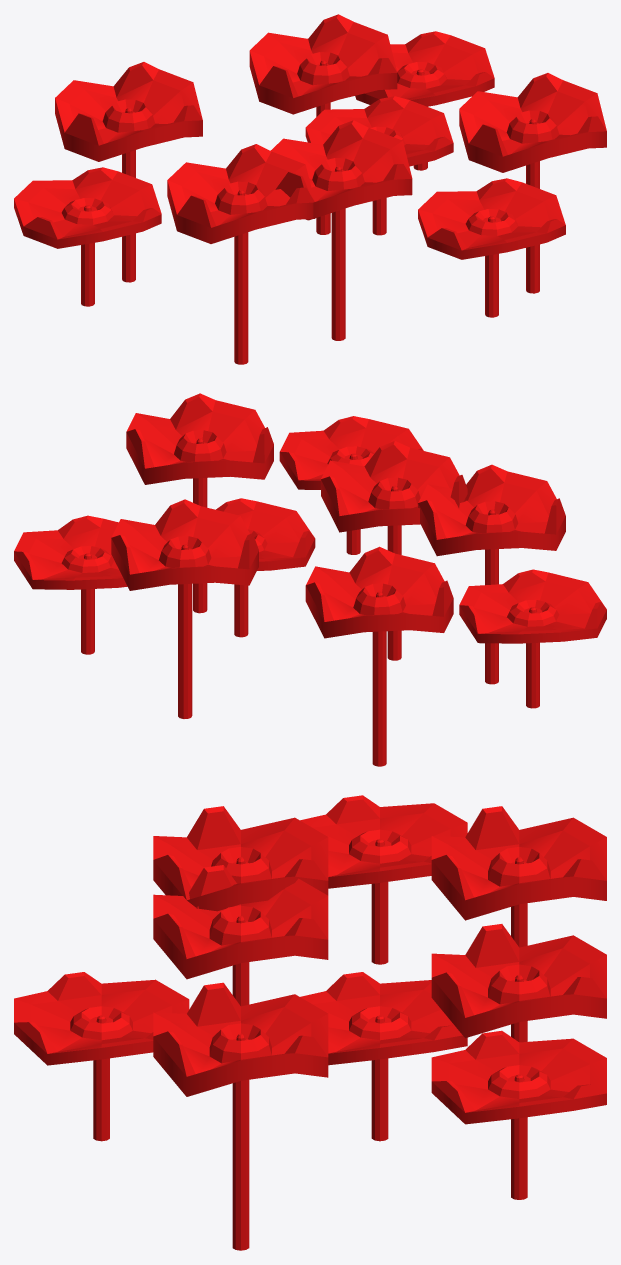
Rendered from FireFlowers Mesh.obj.
The picture shows the model from 3 angles, top to bottom: view 1: azimuth 30°, elevation 25°; view 2: azimuth 150°, elevation 25°; view 3: azimuth 270°, elevation 25°; orthographic projection. The views are drawn at different scales.
Visible parts, largest first — view 1: FireFlowers Mesh; view 2: FireFlowers Mesh; view 3: FireFlowers Mesh.
Part boxes in pixels (box(x1,y1,x2,y2)): FireFlowers Mesh: box(14, 14, 606, 364); FireFlowers Mesh: box(14, 393, 606, 766); FireFlowers Mesh: box(14, 795, 606, 1250).
Size of the model in its own units: 3.43 by 1.2 by 2.75.
